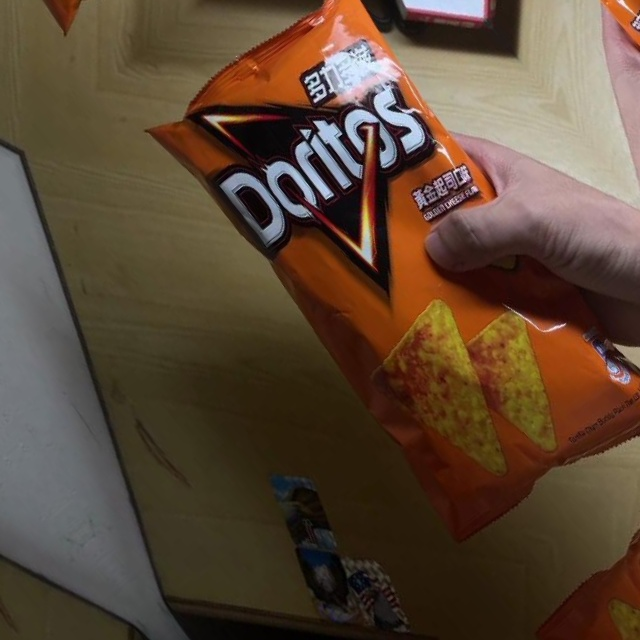Doritos: (121, 0, 640, 586)
